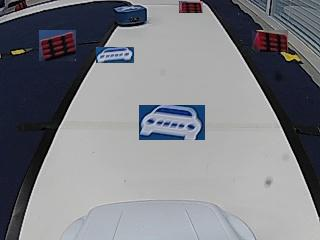prop: (115, 5, 146, 27)
